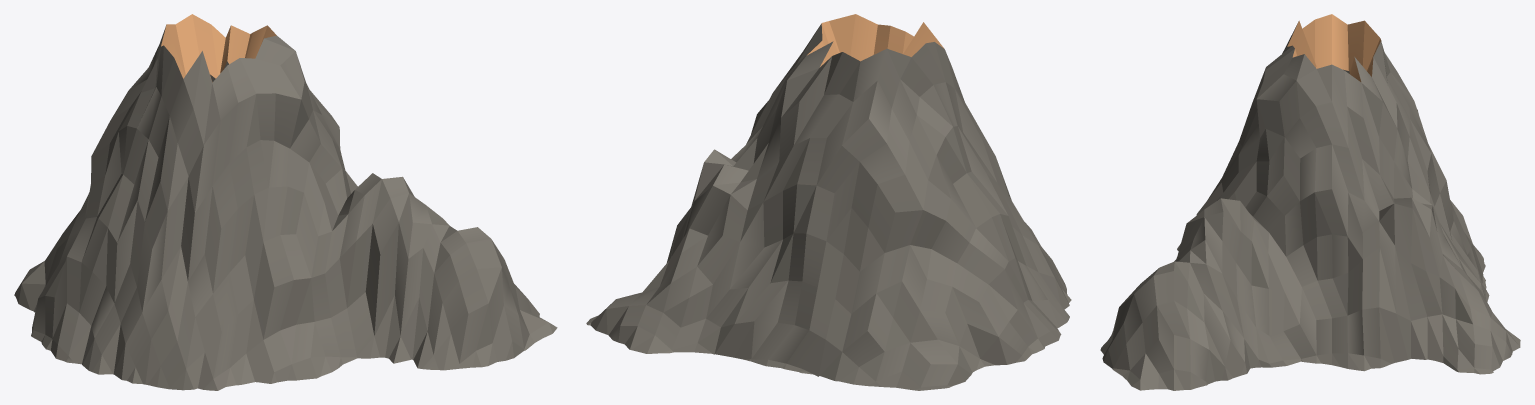
File: vulcano.fbx
The picture shows the model from 3 angles, left to right: view 1: azimuth 30°, elevation 25°; view 2: azimuth 150°, elevation 25°; view 3: azimuth 270°, elevation 25°; orthographic projection. The views are drawn at different scales.
Visible parts, largest first — view 1: Mountain_Volcano_01; view 2: Mountain_Volcano_01; view 3: Mountain_Volcano_01.
Part boxes in pixels (box(x1,y1,x2,y2)): Mountain_Volcano_01: box(14, 14, 557, 390); Mountain_Volcano_01: box(586, 14, 1071, 390); Mountain_Volcano_01: box(1100, 14, 1520, 390).
Bounding box in the file's own units: 2177 × 1420 × 2138.
